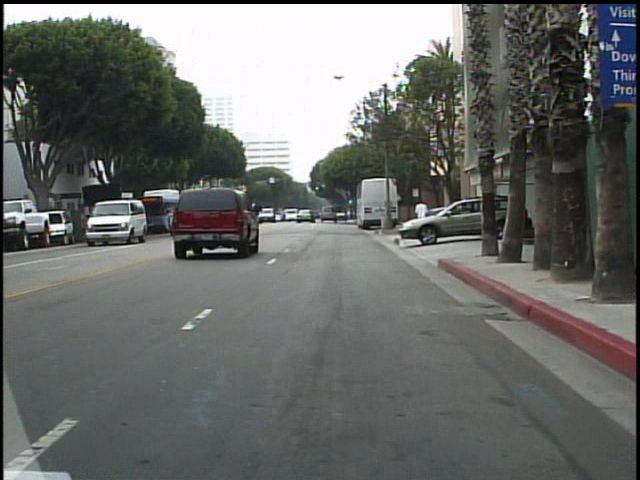person: (411, 195, 431, 239)
